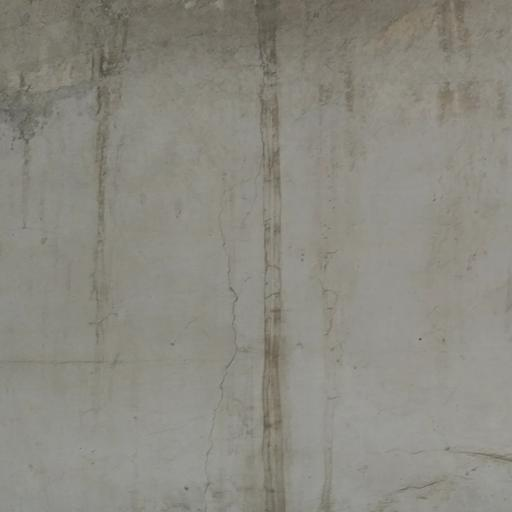stain: (217, 0, 362, 512), (39, 0, 146, 501), (385, 433, 512, 512)
